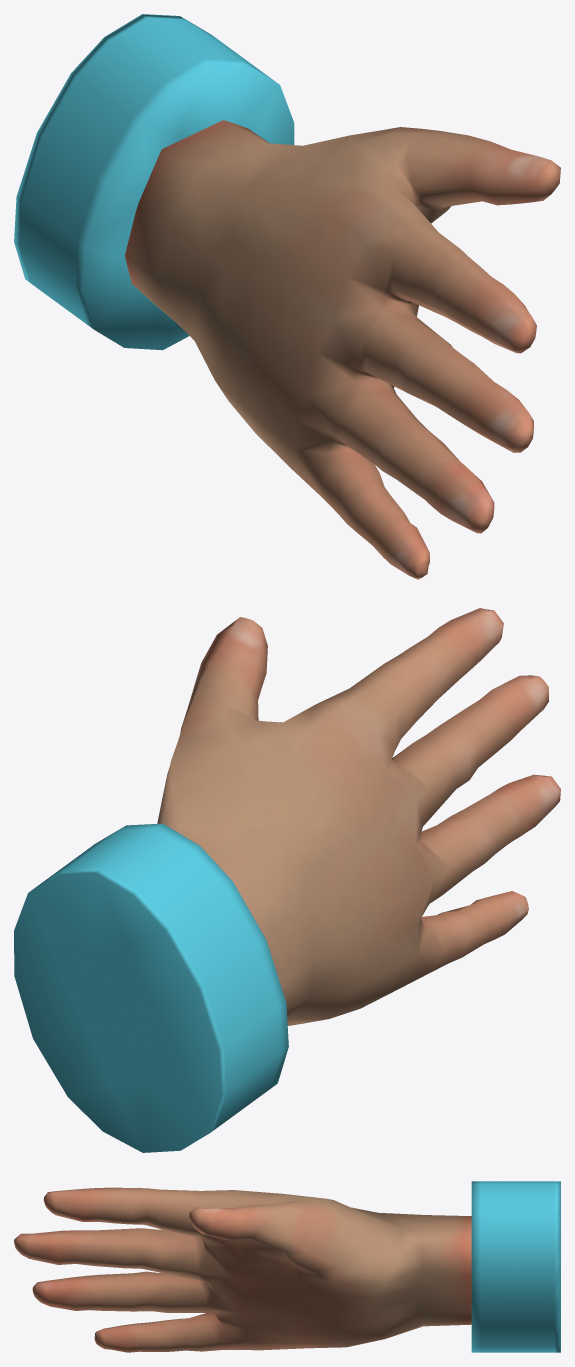
File: right-hand.glb
The picture shows the model from 3 angles, top to bottom: view 1: azimuth 30°, elevation 25°; view 2: azimuth 150°, elevation 25°; view 3: azimuth 270°, elevation 25°; orthographic projection. The views are drawn at different scales.
Parts seen in each view (by area): view 1: handR_low, handShirtR_low; view 2: handR_low, handShirtR_low; view 3: handR_low, handShirtR_low.
Boxes of the visible parts, x1,y1,x2,y2 form: handR_low: (125,120,560,579); handShirtR_low: (14,14,294,350); handR_low: (157,608,560,1025); handShirtR_low: (14,823,288,1152); handR_low: (14,1187,471,1352); handShirtR_low: (471,1181,560,1352).
Bounding box in the file's own units: 0.1096 × 0.1222 × 0.2932.
2 materials, 2 textured.
